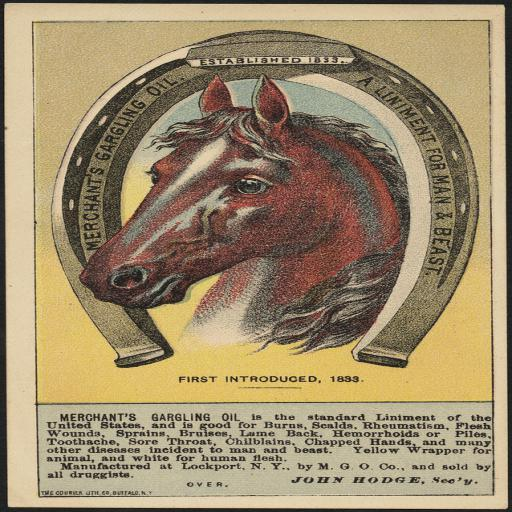horse: (72, 69, 406, 356)
